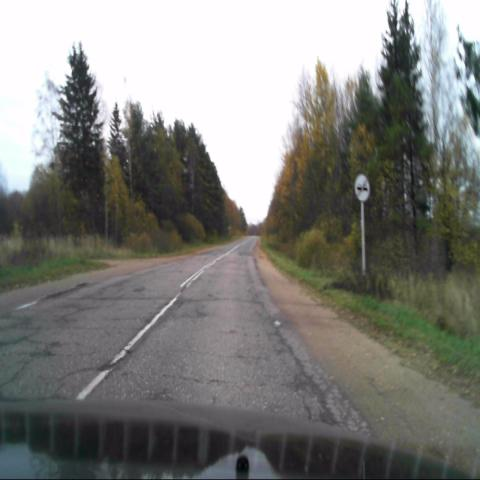3_21: (354, 174, 370, 202)
